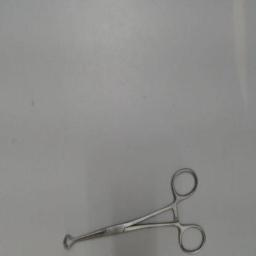Babcock Tissue Forceps: (62, 163, 208, 255)
